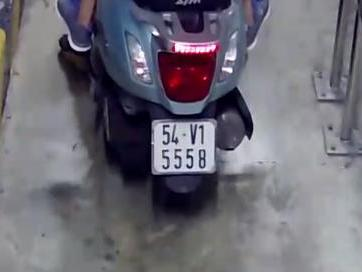num_plate: (149, 119, 219, 176)
